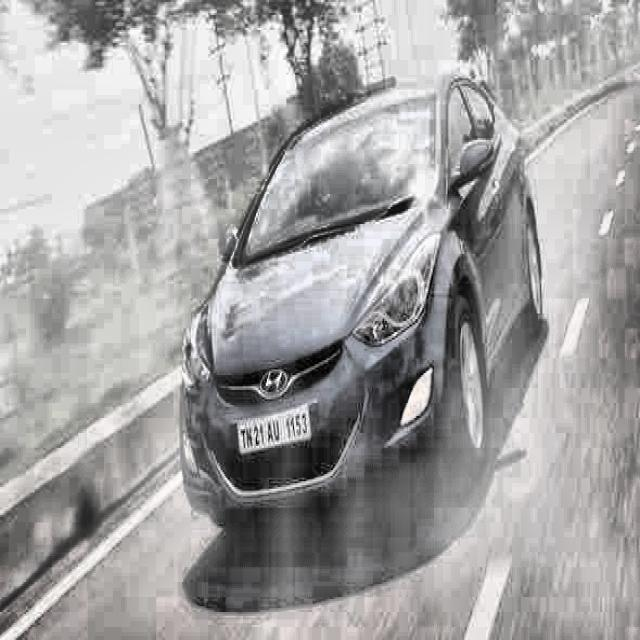license_plate: (233, 407, 310, 451)
